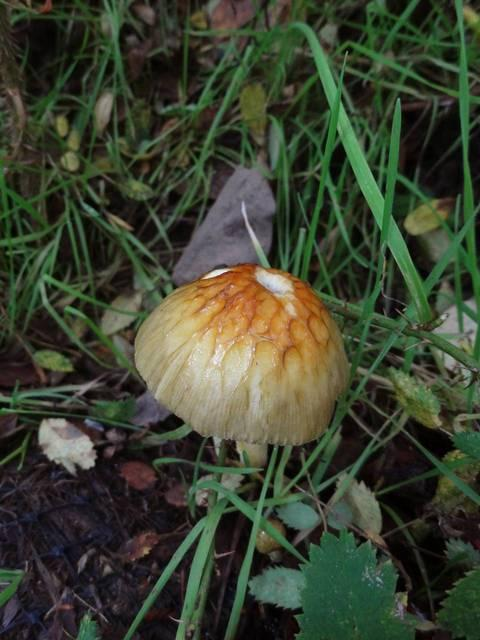edible_mushroom: (132, 261, 350, 474)
